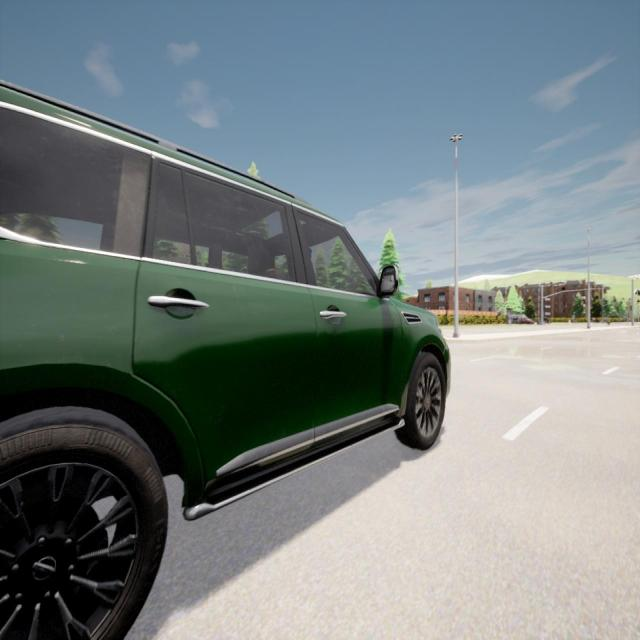Vehicle: (0, 81, 450, 638), (511, 314, 525, 324), (518, 316, 534, 324)
